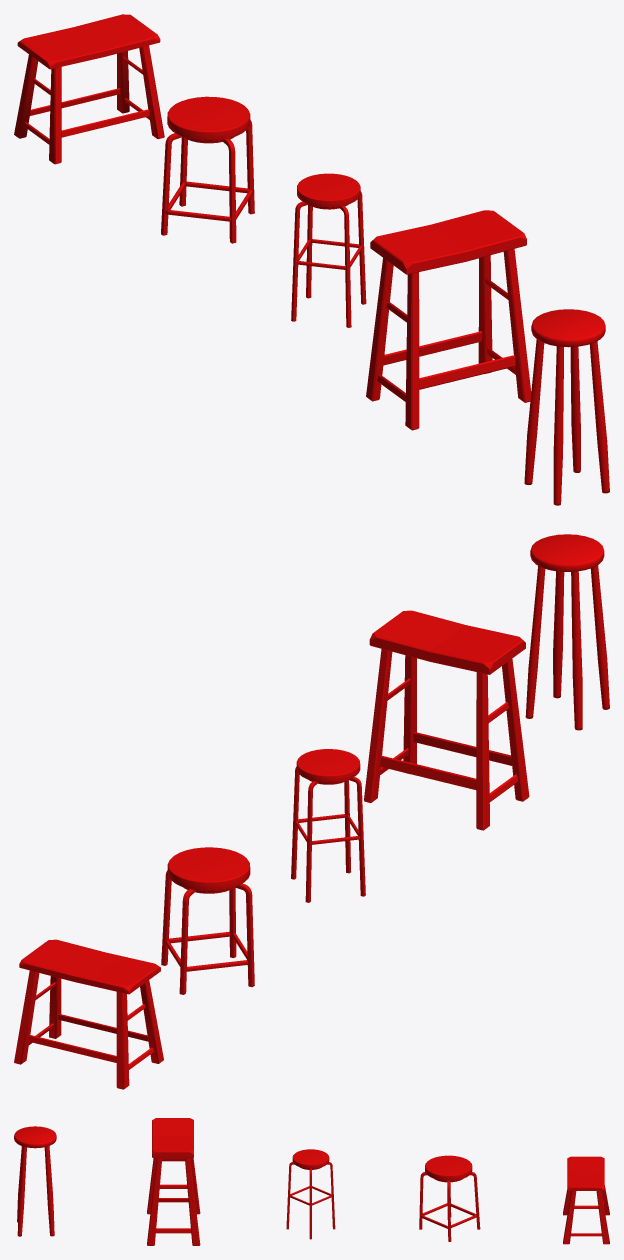
Rendered from stools_grp.fbx.
3 views of the same model, one above another, from view 1: azimuth 30°, elevation 25°; view 2: azimuth 150°, elevation 25°; view 3: azimuth 270°, elevation 25° (orthographic). The views are drawn at different scales.
Parts seen in each view (by area): view 1: stool_2, stool_5, stool_1, stool_4, stool_3; view 2: stool_2, stool_5, stool_1, stool_4, stool_3; view 3: stool_2, stool_5, stool_4, stool_1, stool_3.
Boxes of the visible parts, x1,y1,x2,y2 form: stool_2: (366,210,531,430); stool_5: (14,14,164,164); stool_1: (524,309,609,505); stool_4: (161,96,254,243); stool_3: (291,173,366,327); stool_2: (364,610,529,830); stool_5: (14,939,163,1089); stool_1: (525,534,609,730); stool_4: (161,847,254,994); stool_3: (291,749,365,902); stool_2: (147,1118,200,1245); stool_5: (563,1156,609,1244); stool_4: (419,1155,480,1241); stool_1: (14,1126,56,1236); stool_3: (286,1149,335,1239).
Size of the model in its own units: 58.8 by 75.49 by 433.
